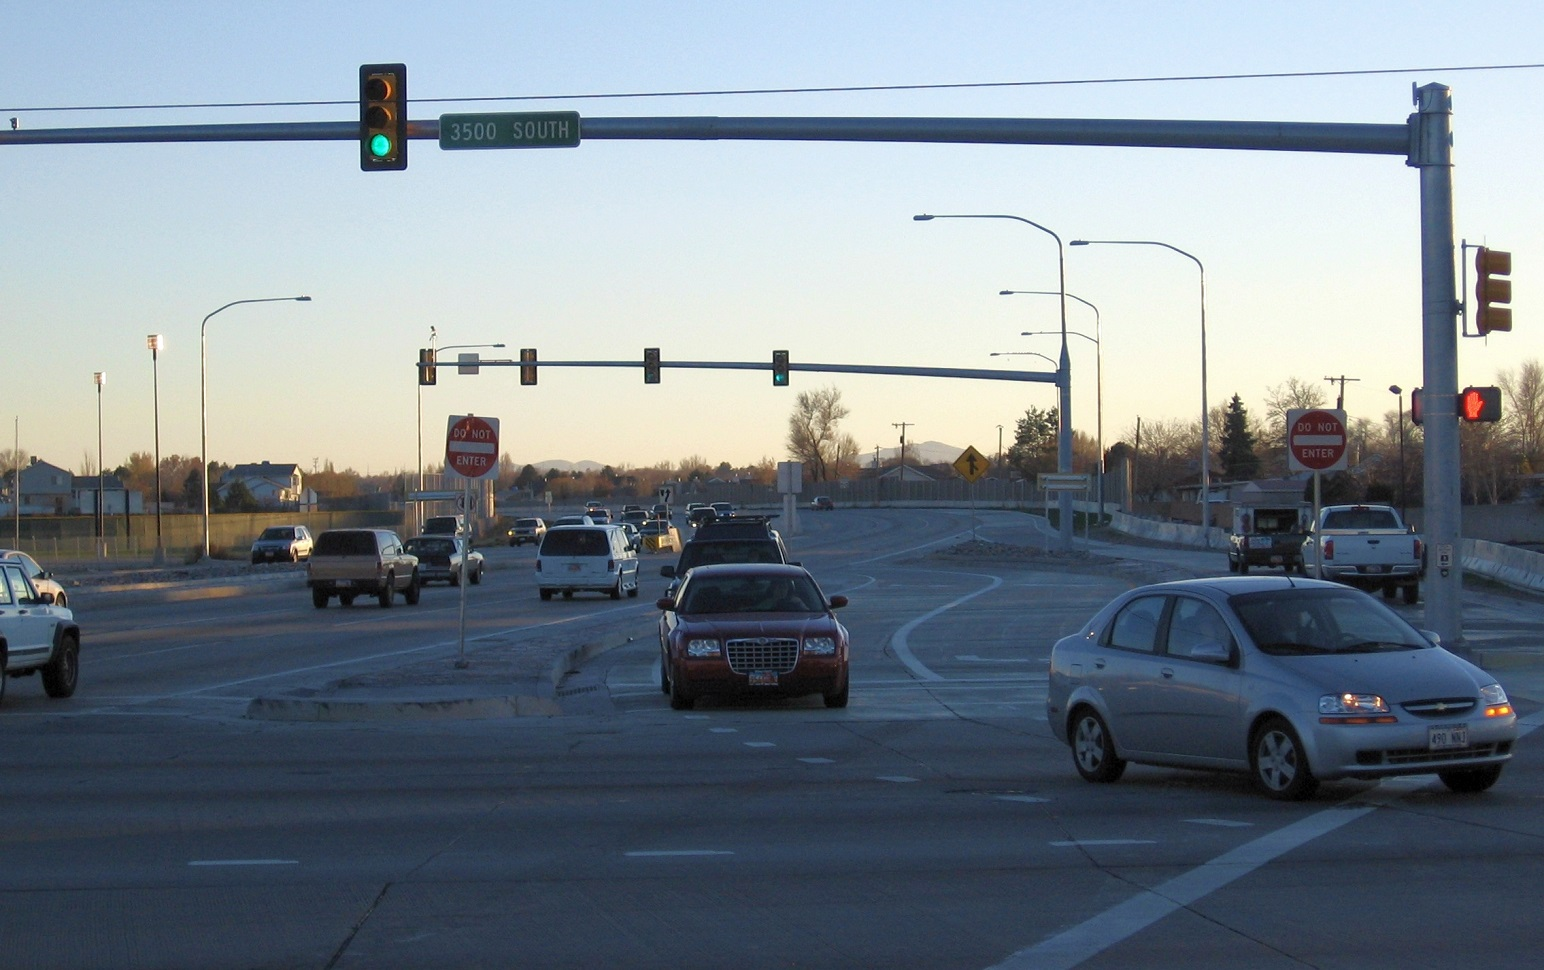traffic_light: (358, 61, 410, 174)
